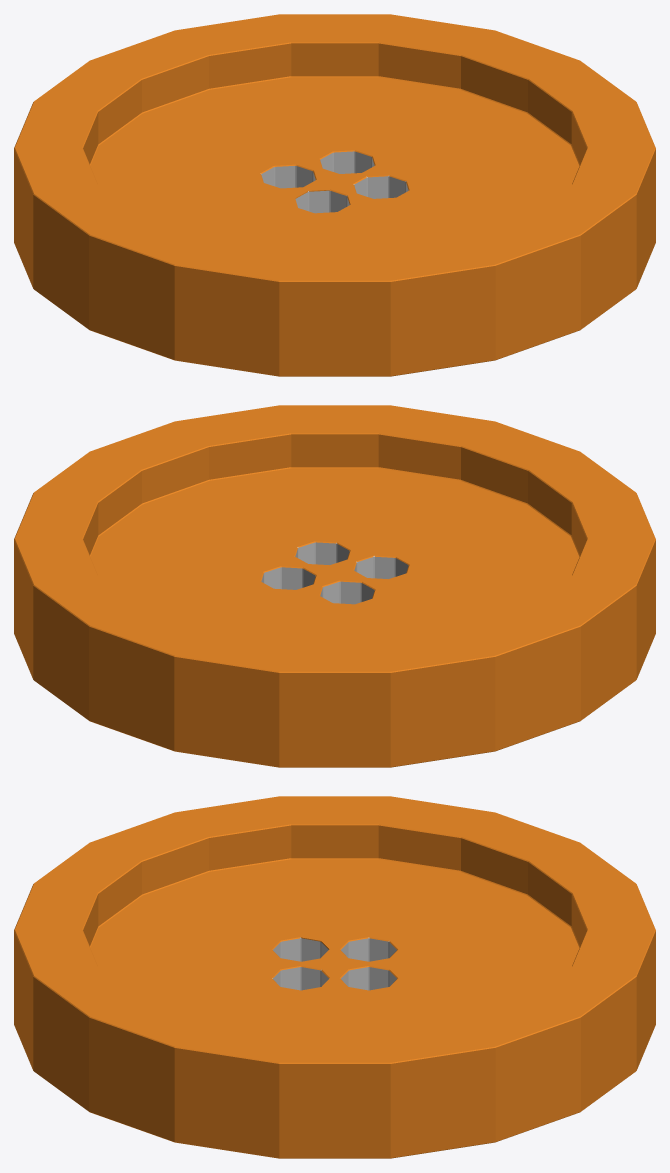
The model's file is MiniVan_AmberButton.obj.
3 renders of one model, top to bottom at view 1: azimuth 30°, elevation 25°; view 2: azimuth 150°, elevation 25°; view 3: azimuth 270°, elevation 25°, orthographic.
Visible parts, largest first — view 1: MiniVan_AmberButton; view 2: MiniVan_AmberButton; view 3: MiniVan_AmberButton.
Part boxes in pixels (<box>): MiniVan_AmberButton: <box>14,14,655,376</box>; MiniVan_AmberButton: <box>14,405,655,767</box>; MiniVan_AmberButton: <box>14,796,655,1158</box>.
Size of the model in its own units: 0.1674 by 0.028 by 0.17.
